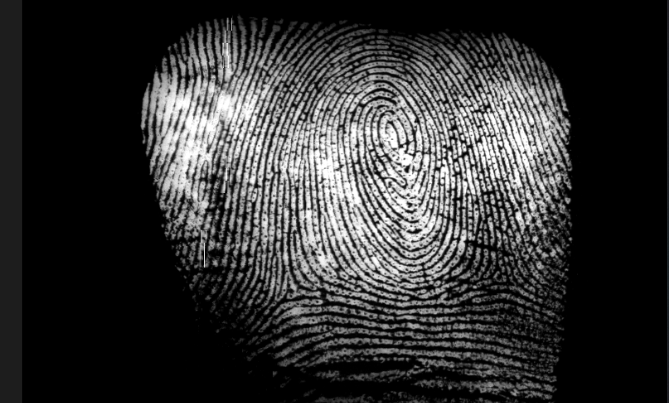nucelo: (376, 109, 414, 162)
verticilo: (479, 257, 507, 290), (273, 269, 301, 300)
